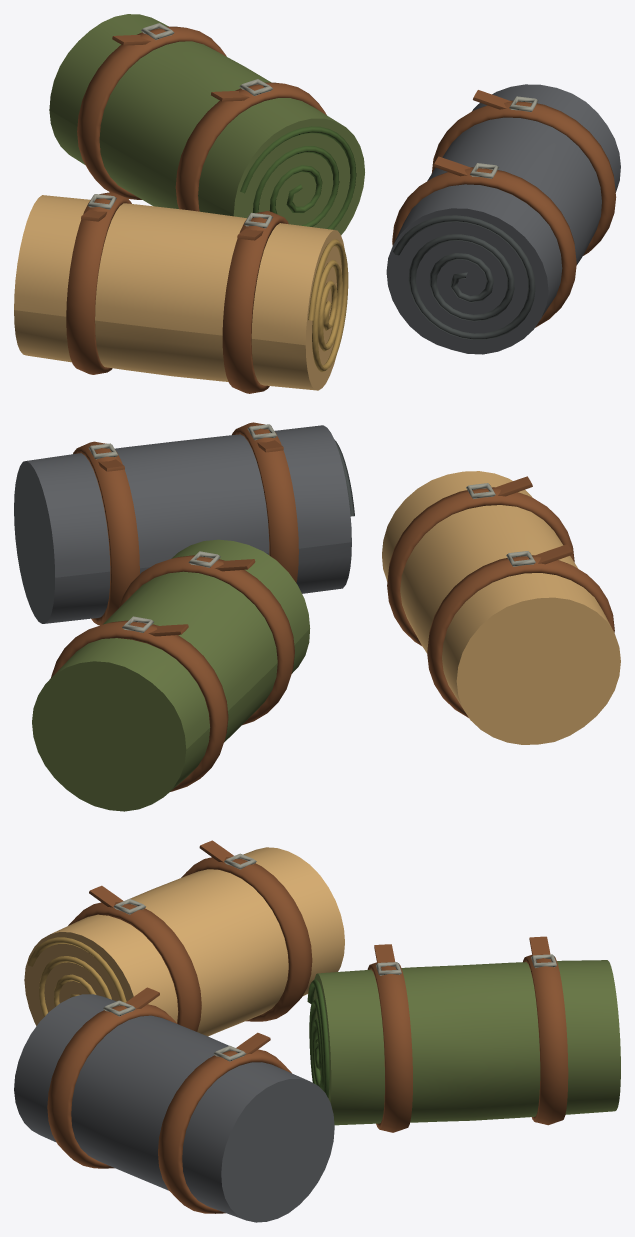
The model's file is detail_bedroll_cluster.glb.
3 renders of one model, top to bottom at view 1: azimuth 30°, elevation 25°; view 2: azimuth 150°, elevation 25°; view 3: azimuth 270°, elevation 25°, orthographic. The views are drawn at different scales.
Parts seen in each view (by area): view 1: cloth, metal; view 2: cloth, metal; view 3: cloth, metal.
Part boxes in pixels (box(x1,y1,x2,y2)): cloth: box(14, 14, 620, 393); metal: box(87, 23, 538, 228); cloth: box(14, 422, 620, 811); metal: box(88, 424, 535, 632); cloth: box(14, 840, 620, 1222); metal: box(103, 853, 556, 1061).
Size of the model in its own units: 1.3 by 0.35 by 1.2.
